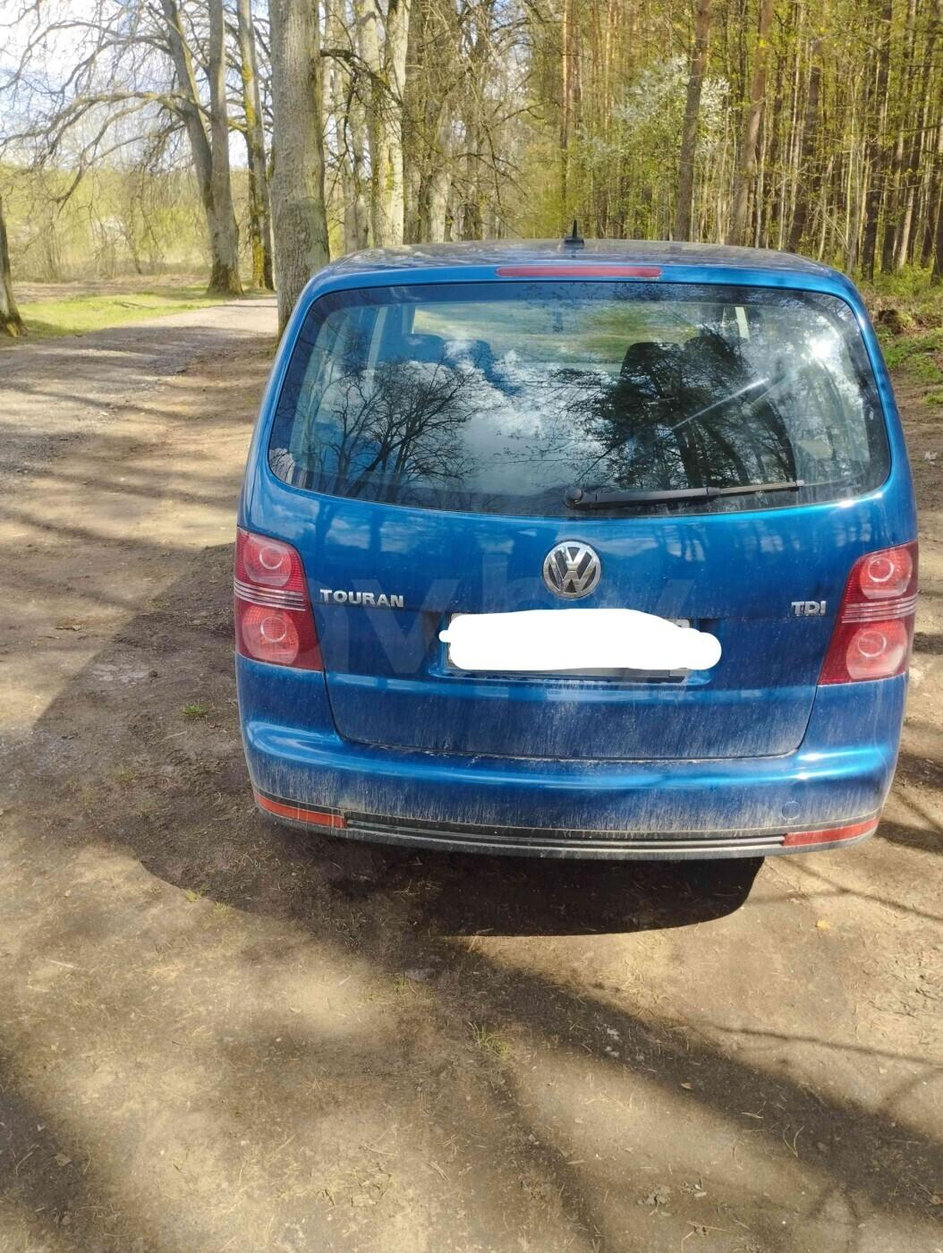Touran_2006-2010: (224, 233, 922, 866)
